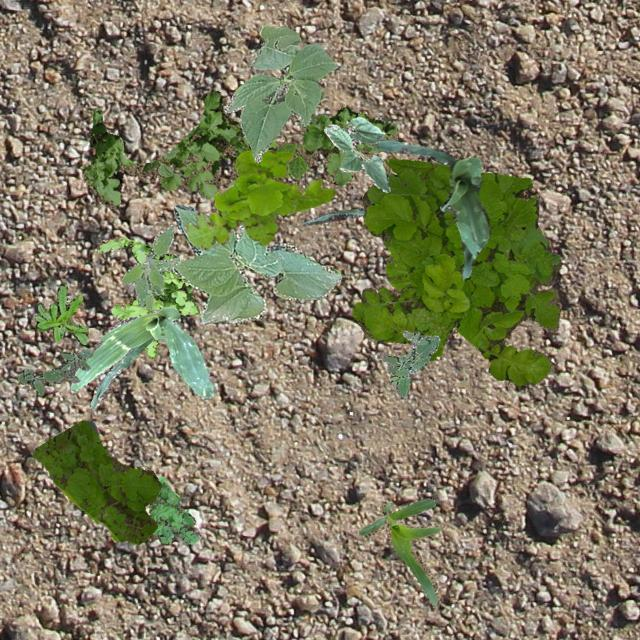crop: (170, 204, 340, 322), (374, 138, 489, 278), (224, 25, 338, 162), (70, 304, 214, 408), (358, 496, 438, 606), (322, 116, 390, 192), (301, 207, 364, 225)
weed: (352, 158, 560, 386), (81, 90, 396, 206), (32, 419, 160, 544), (184, 148, 334, 248), (96, 236, 198, 358), (120, 224, 180, 308), (382, 329, 438, 396), (147, 476, 200, 544), (17, 348, 92, 394), (34, 284, 86, 344)
